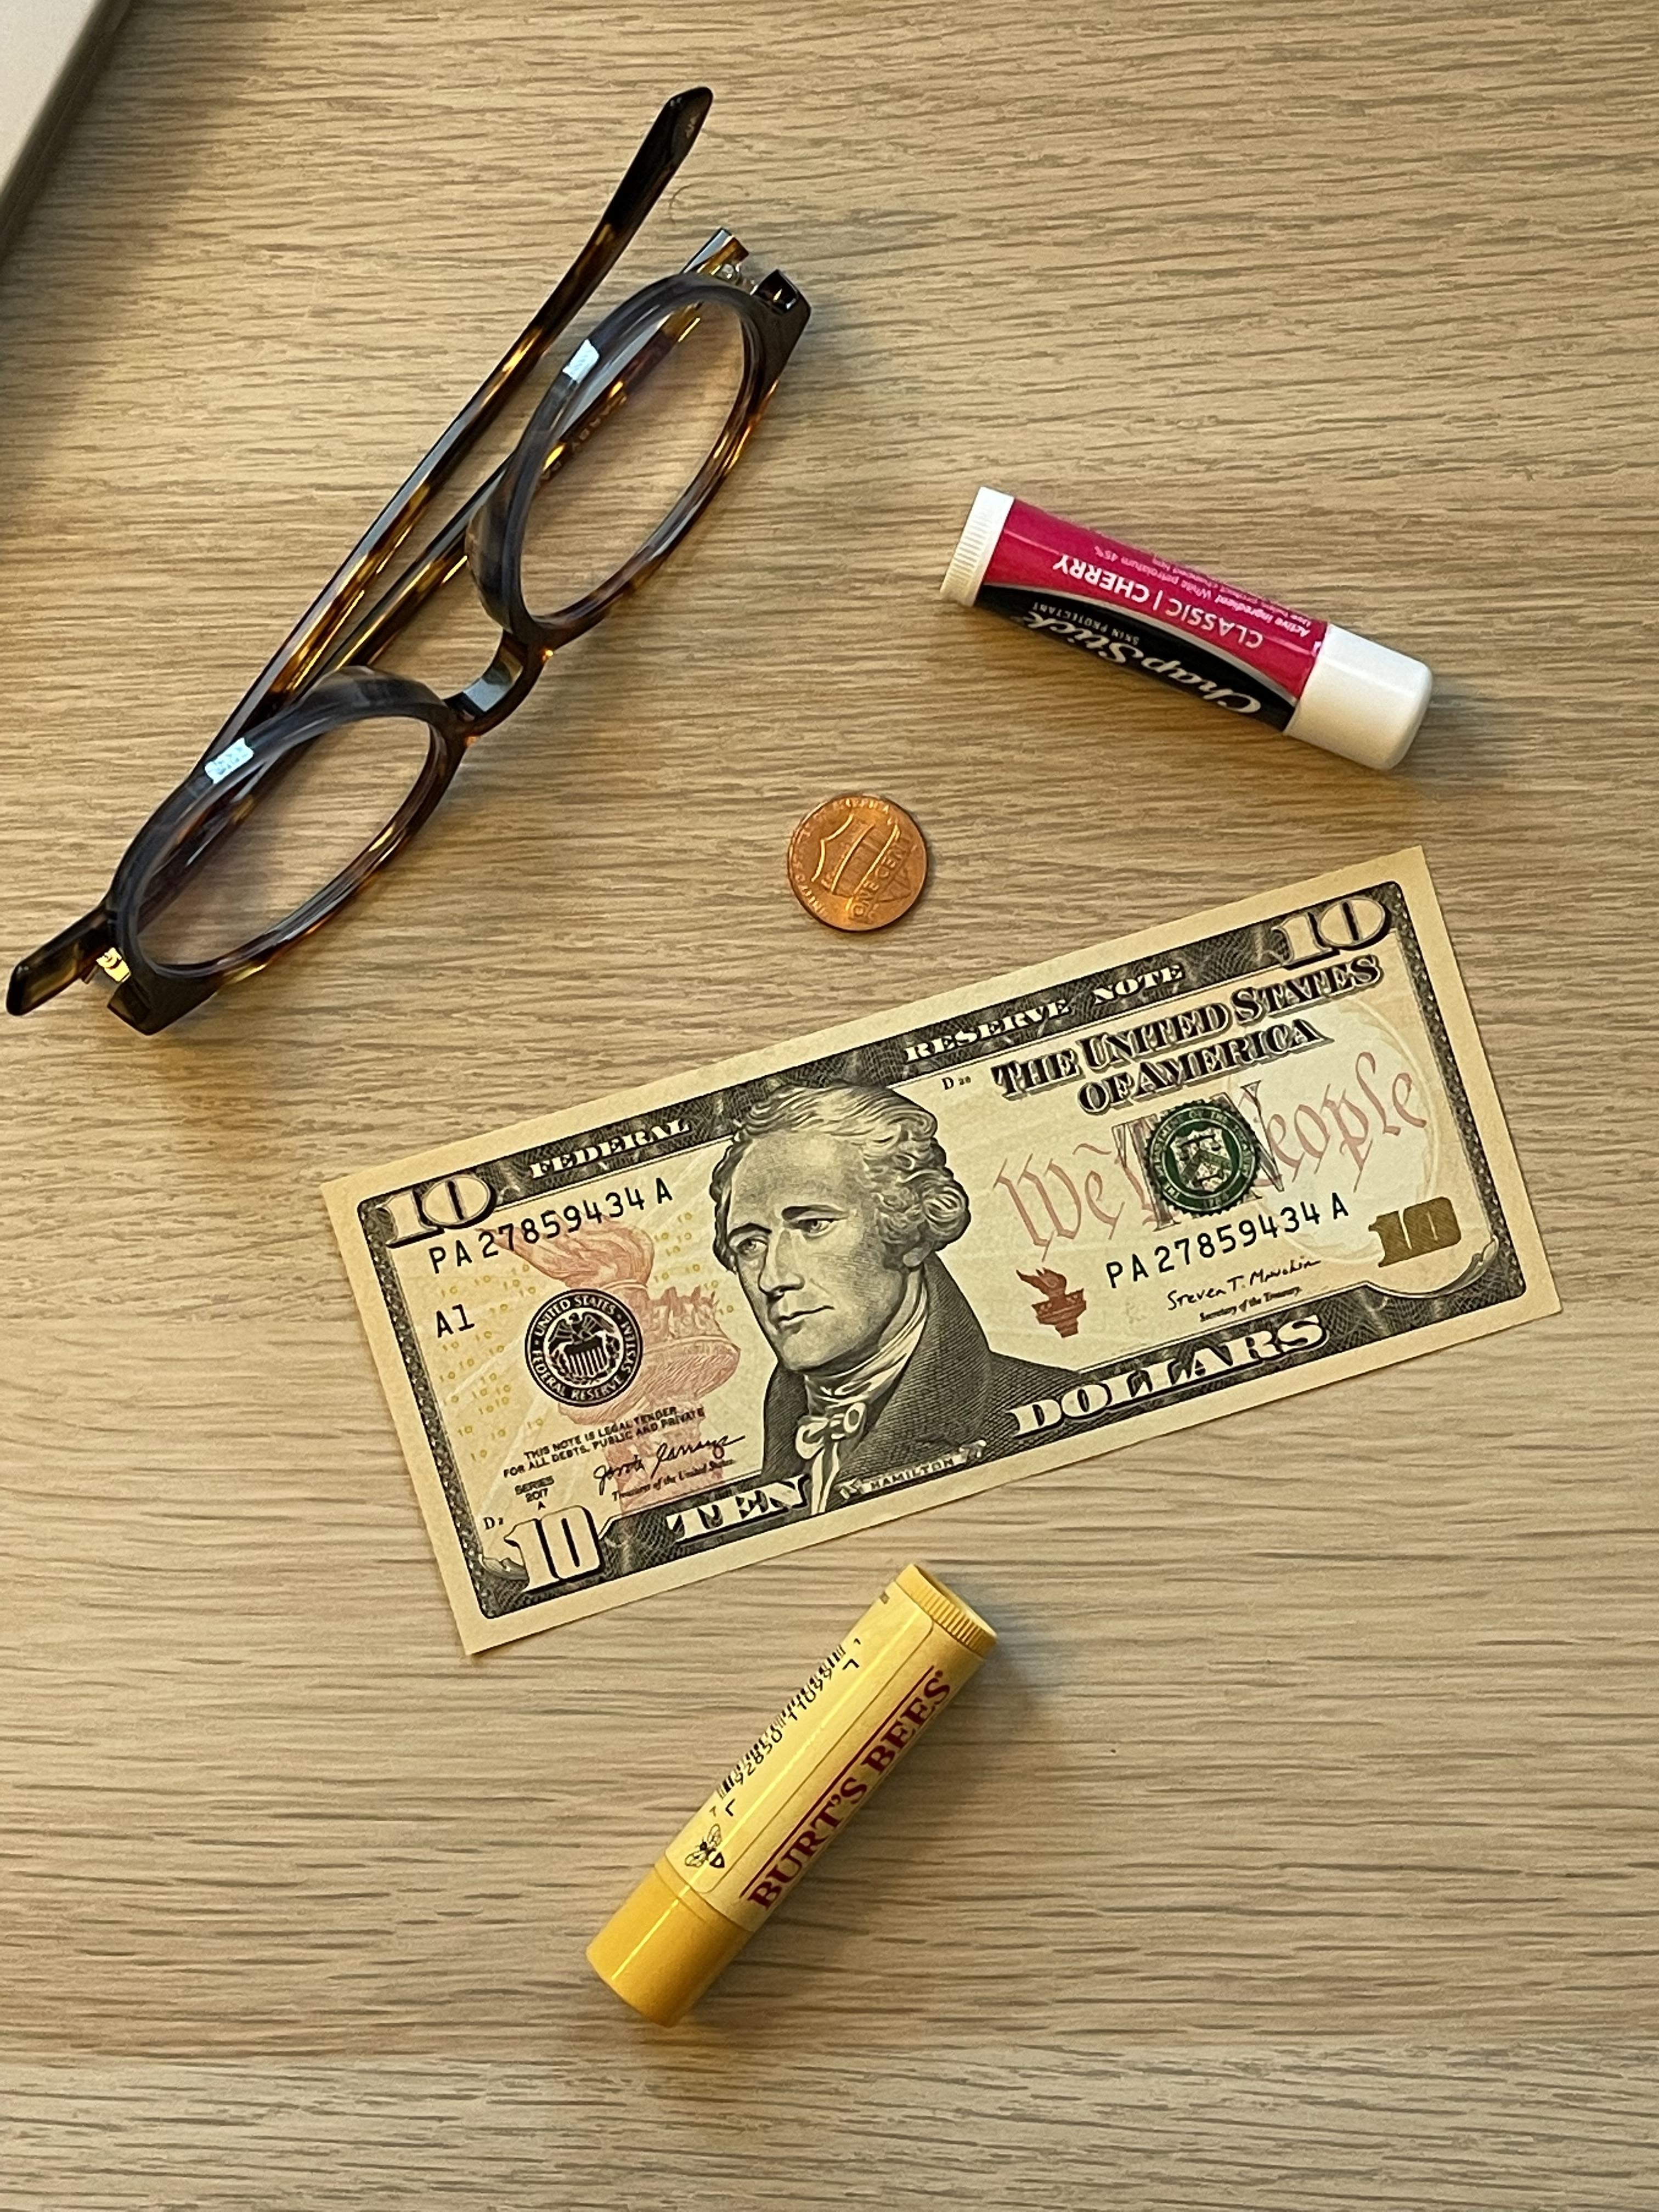Penny: (786, 794, 927, 934)
Quarter: (315, 841, 1561, 1667)
